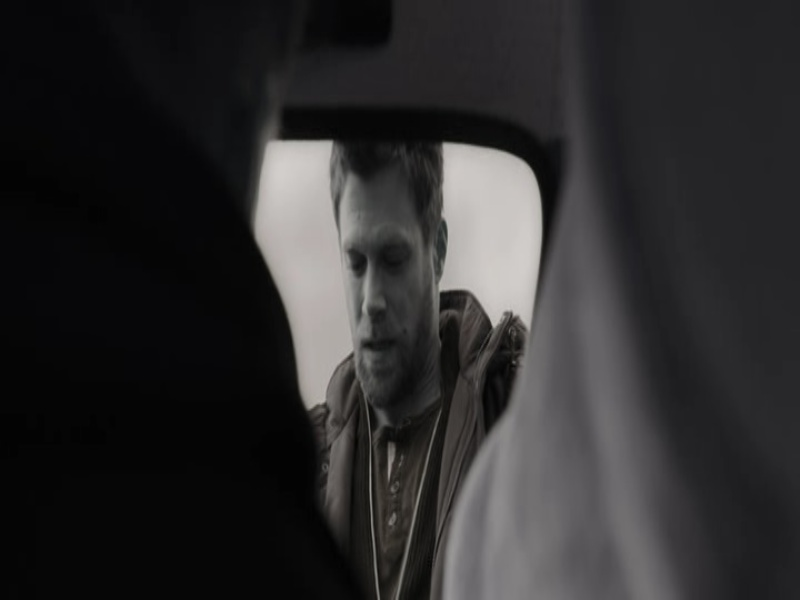TsisyArotava: (319, 159, 440, 425)
